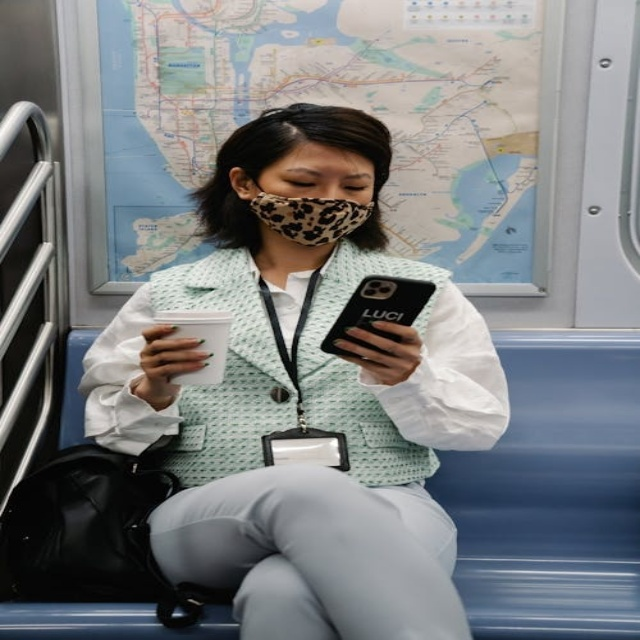Mascara: (247, 185, 374, 245)
Sin_gafas: (275, 164, 378, 199)
Sin_guantes: (104, 315, 221, 405), (317, 311, 428, 391)
